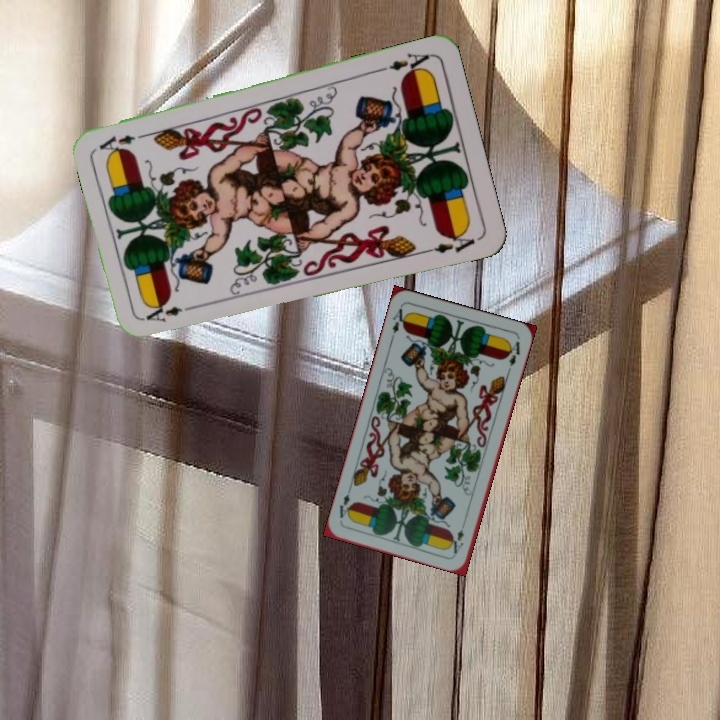EA: (385, 48, 433, 78), (142, 301, 199, 325), (387, 303, 410, 342), (449, 517, 469, 557)
